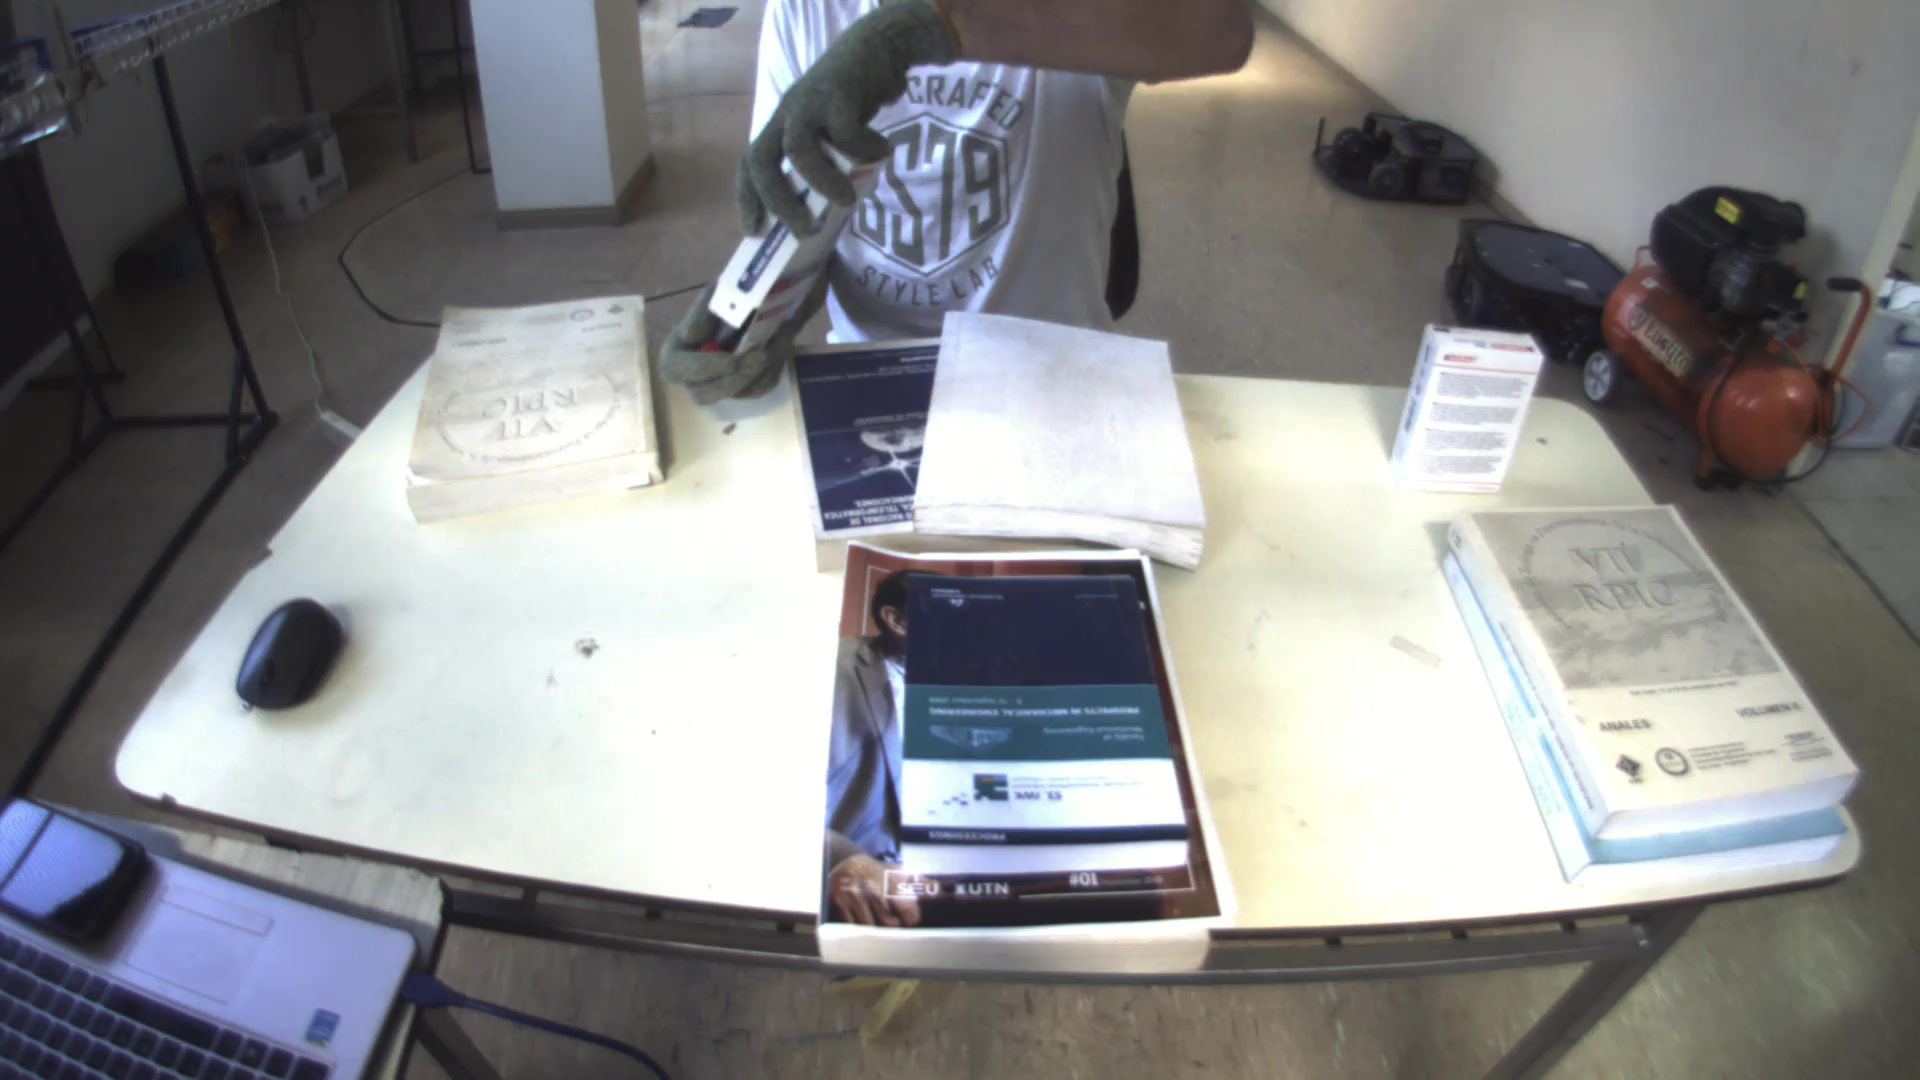hand: (731, 13, 927, 253), (653, 282, 811, 415)
